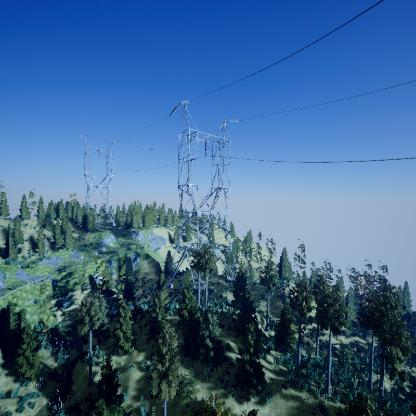tower: (167, 97, 245, 311), (78, 132, 118, 230)
